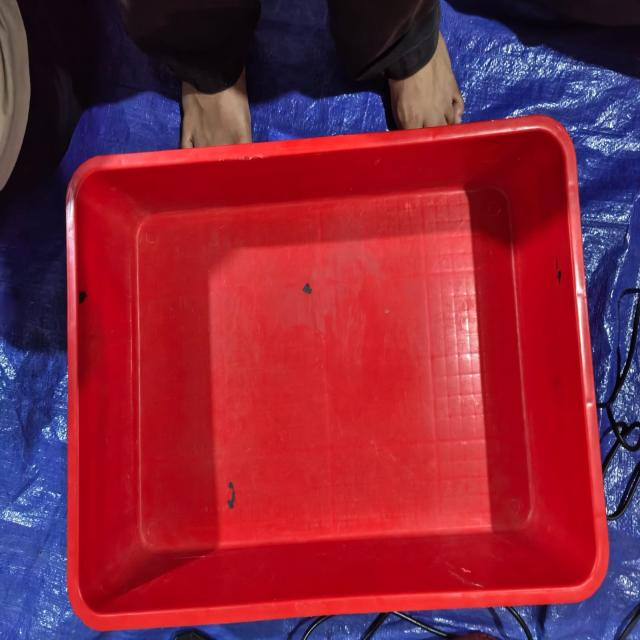red plastic box: (65, 114, 609, 632)
